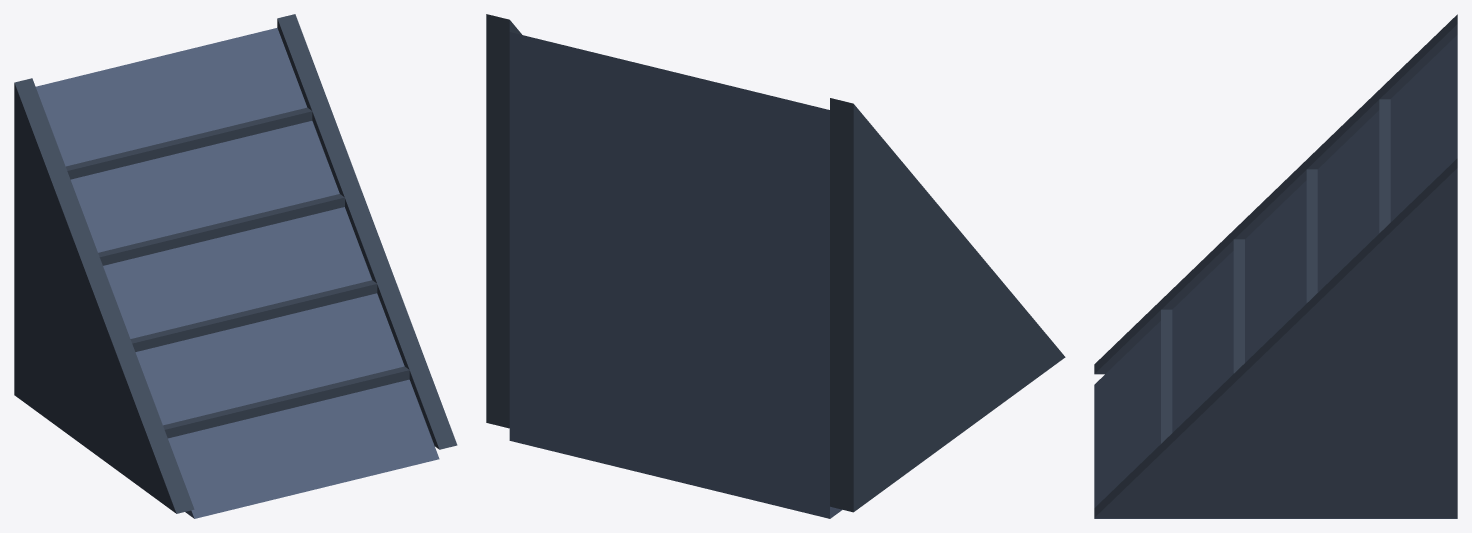
File: kit_ramp_stone.glb
3 views of the same model, side by side, from view 1: azimuth 30°, elevation 25°; view 2: azimuth 150°, elevation 25°; view 3: azimuth 270°, elevation 25° (orthographic). The views are drawn at different scales.
Parts seen in each view (by area): view 1: kit_ramp_stone; view 2: kit_ramp_stone; view 3: kit_ramp_stone.
Part boxes in pixels (x1,y1,x2,y2): kit_ramp_stone: (14, 14, 457, 518); kit_ramp_stone: (486, 14, 1065, 518); kit_ramp_stone: (1094, 14, 1457, 518).
Size of the model in its own units: 0.94 by 1.03 by 0.94.
1 material, 1 textured.
